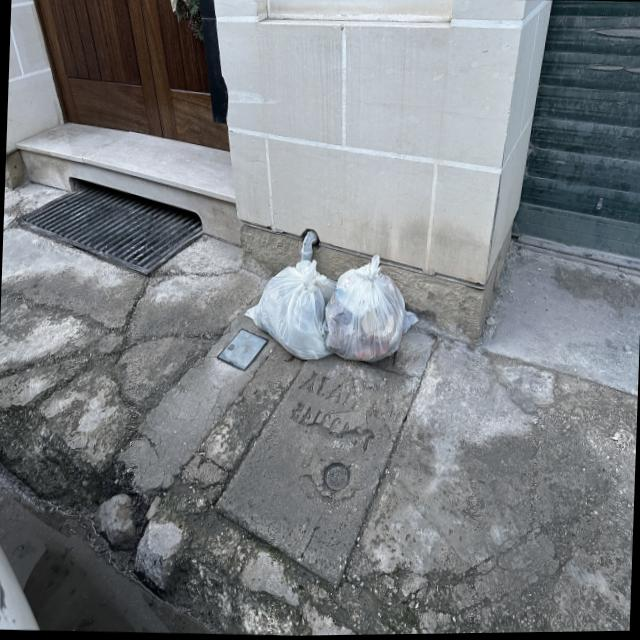Organic Waste -White Bags-: (243, 256, 419, 364)
